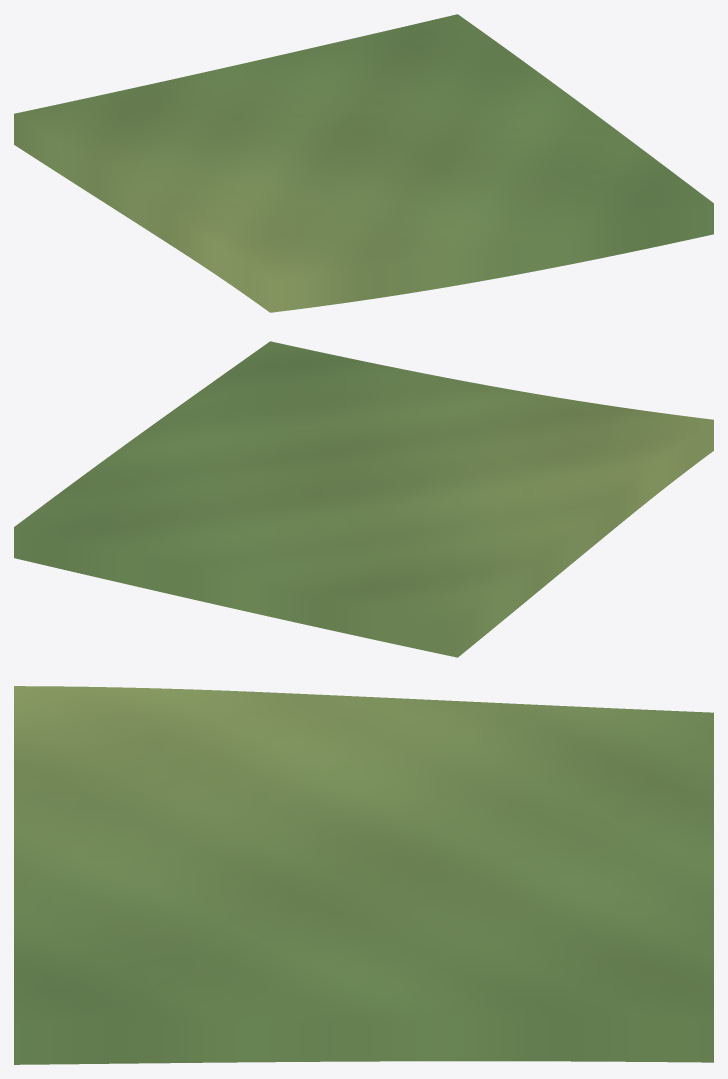
3 renders of one model, top to bottom at view 1: azimuth 30°, elevation 25°; view 2: azimuth 150°, elevation 25°; view 3: azimuth 270°, elevation 25°, orthographic. The views are drawn at different scales.
Visible parts, largest first — view 1: terrain; view 2: terrain; view 3: terrain.
Part boxes in pixels (bbox=[...]): terrain: bbox=[14, 14, 713, 312]; terrain: bbox=[14, 341, 713, 657]; terrain: bbox=[14, 686, 713, 1064].
Size of the model in its own units: 30 by 3.92 by 30.
